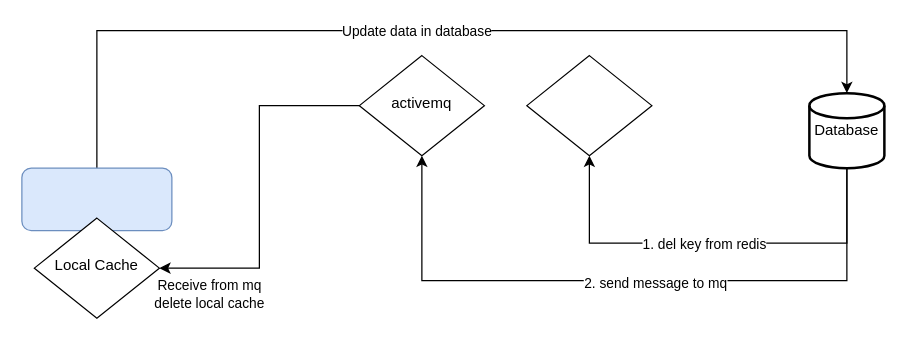
The diagram is 908 pixels wide and 340 high, and some of its shapes have lost their labels. Each missing label, with the centre of its shape:
"Application" belongs at (96,199).
"redis" belongs at (589,105).
